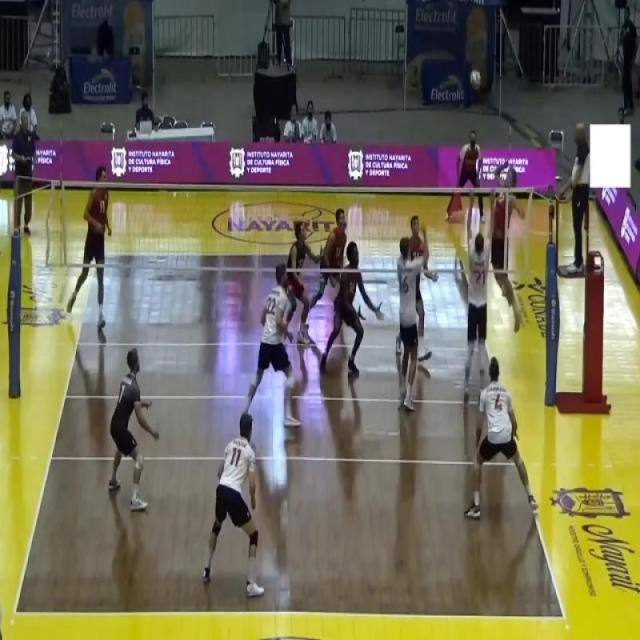volleyball: (469, 70, 482, 91)
